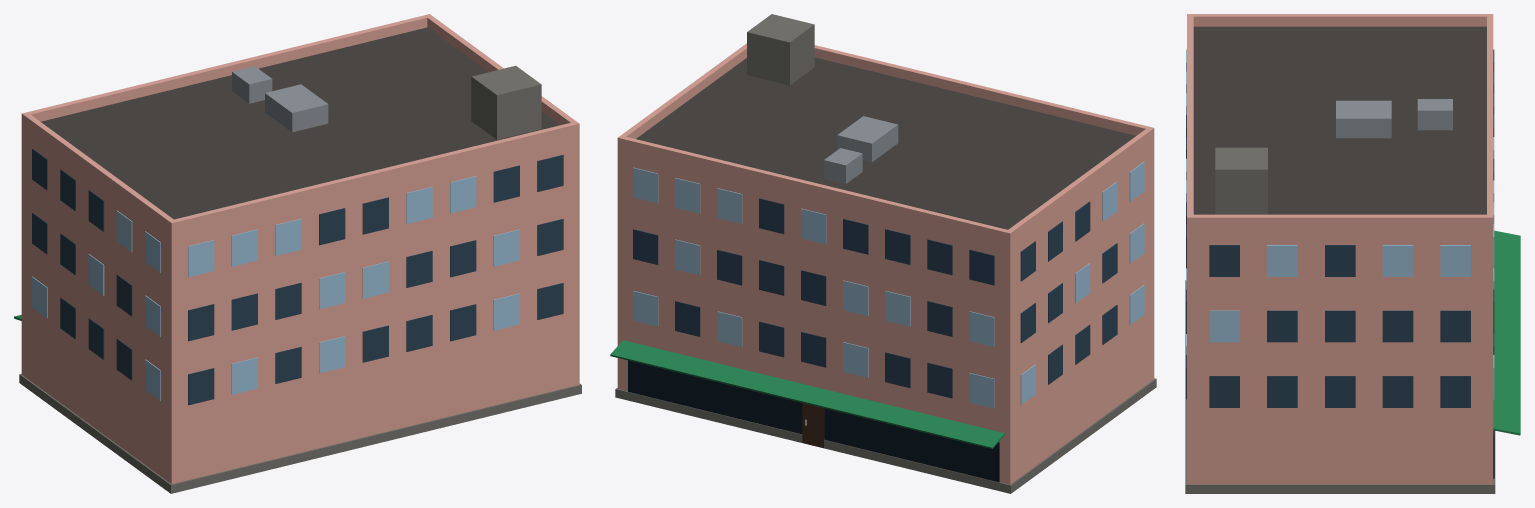
The model's file is bld_apart_c.glb.
The picture shows the model from 3 angles, left to right: view 1: azimuth 30°, elevation 25°; view 2: azimuth 150°, elevation 25°; view 3: azimuth 270°, elevation 25°; orthographic projection. The views are drawn at different scales.
Parts seen in each view (by area): view 1: bld_apart_c__mesh; view 2: bld_apart_c__mesh; view 3: bld_apart_c__mesh.
Part boxes in pixels (<box>): bld_apart_c__mesh: <box>14,14,581,493</box>; bld_apart_c__mesh: <box>610,14,1156,493</box>; bld_apart_c__mesh: <box>1185,14,1520,493</box>.
Size of the model in its own units: 22.16 by 15.7 by 15.33.
